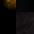pot: (0, 0, 16, 12)
